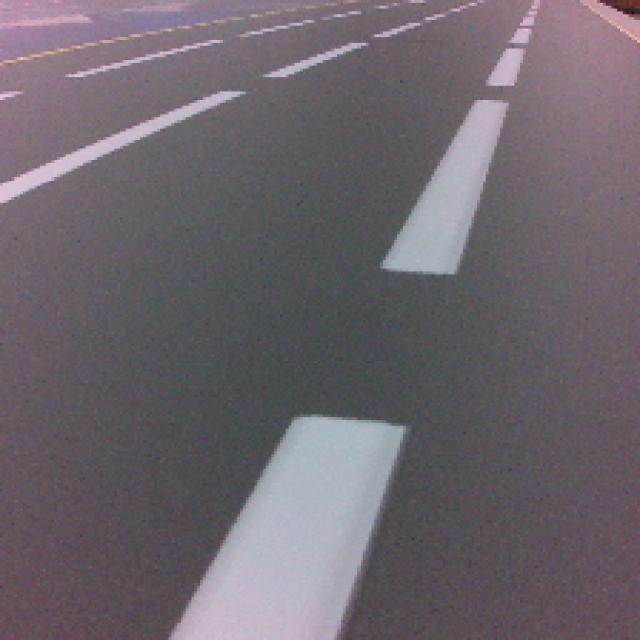Guard rail: (170, 415, 405, 640)
